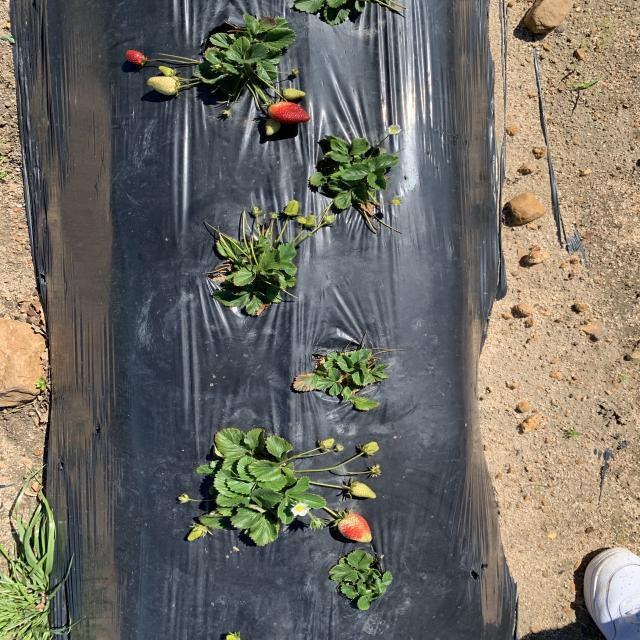unripe: (267, 99, 313, 125), (123, 48, 149, 65)
